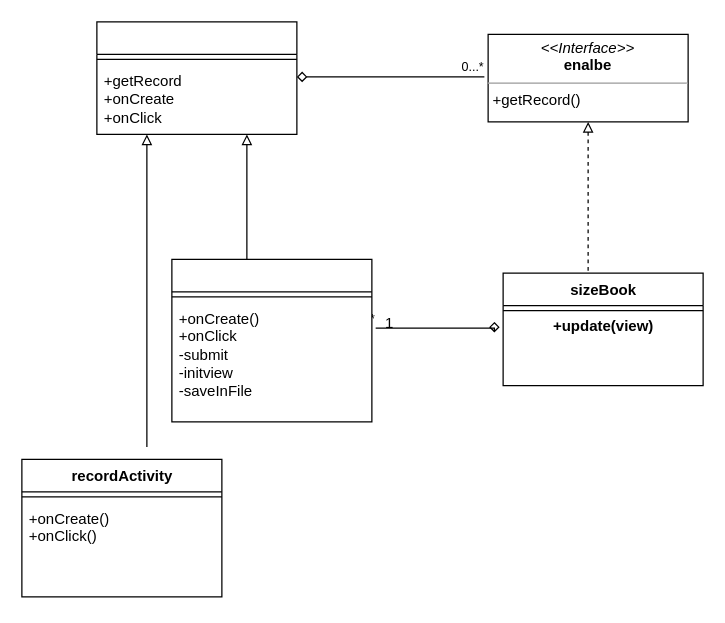
This 725x623 diagram has some shape labels left out. Here are the shapes that lost their labels. From the top down, the box of each, then its label:
(96, 21, 297, 134): mainActiivty
(171, 258, 372, 422): inputActivity
